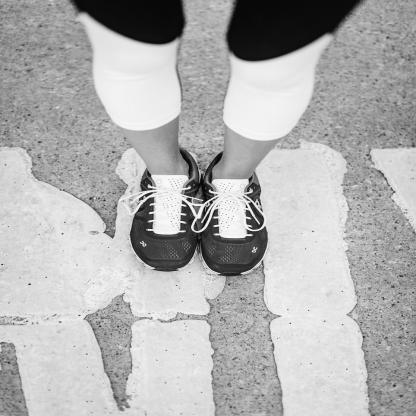ankle: (212, 171, 215, 173), (192, 175, 195, 177)
heel: (192, 155, 194, 156)
left_foot: (203, 151, 270, 277)
pinky: (254, 261, 258, 264), (139, 253, 141, 255)
right_foot: (130, 149, 202, 273)
toe: (210, 264, 215, 268), (185, 264, 188, 266)
